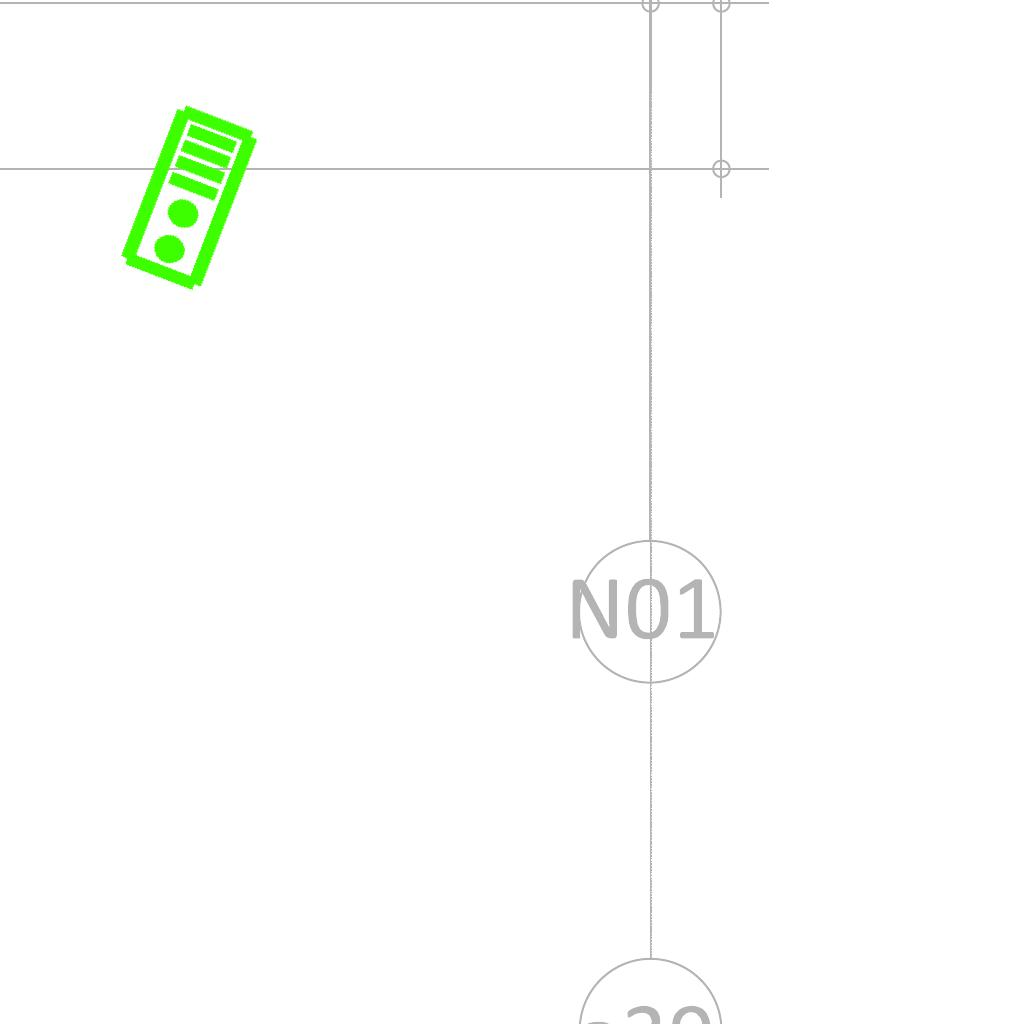Gegensprechanlage_mit_Video: (114, 99, 267, 299)
